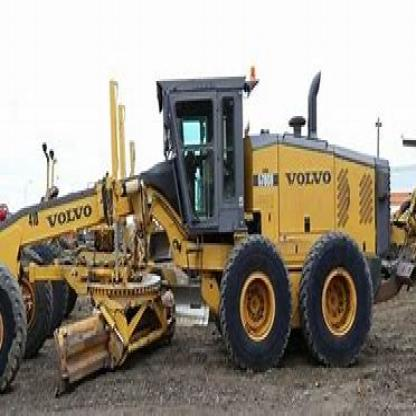bull_dozer/loader/grader: (1, 33, 407, 387)
